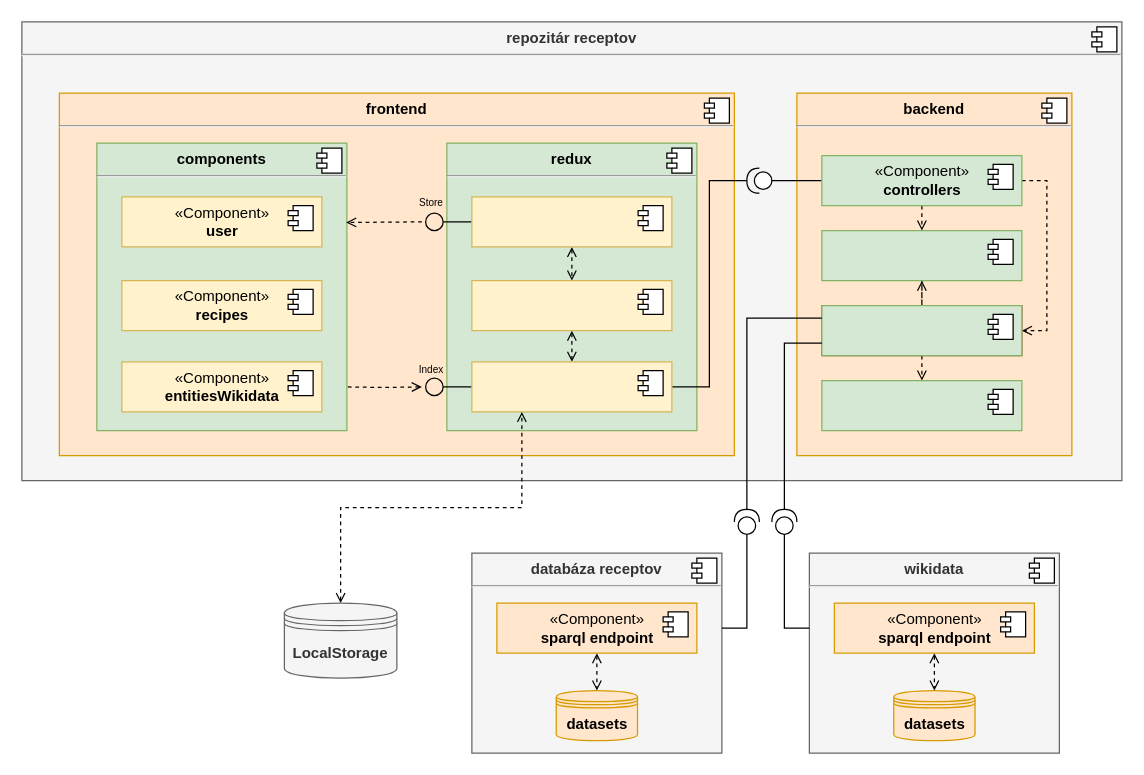
Some shapes in this 1144 by 775 pixel diagram are drawn without their labels. The centre of each missing label's shape, as x and y in pixels:
"«Component» actions" goes at (571,386).
"«Component» models" goes at (921,255).
"«Component» queries" goes at (921,405).
"«Component» reducers" goes at (571,221).
"«Component» services" goes at (921,330).
"«Component» types" goes at (571,305).
